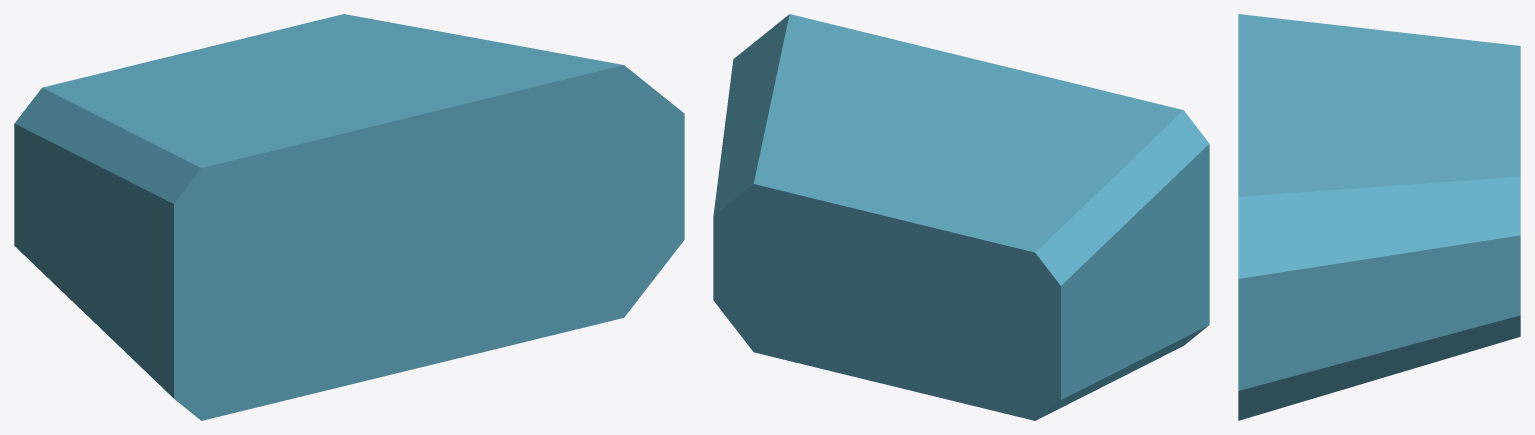
The model's file is spacestation_structure_wing_thick_medium_angled.glb.
3 views of the same model, side by side, from view 1: azimuth 30°, elevation 25°; view 2: azimuth 150°, elevation 25°; view 3: azimuth 270°, elevation 25° (orthographic). The views are drawn at different scales.
Bounding box in the file's own units: 1.85 × 0.875 × 1.
